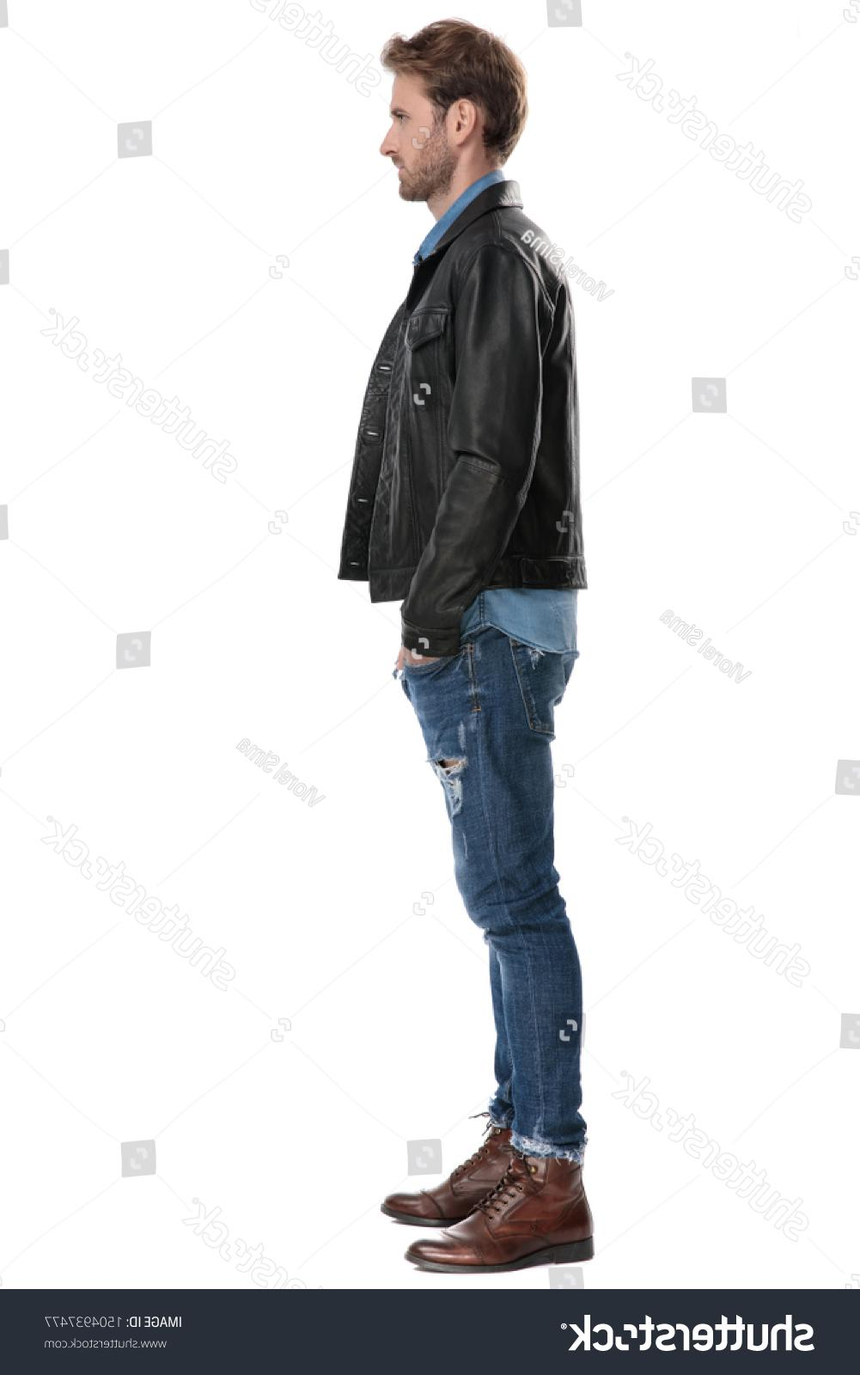jacket: (334, 177, 590, 660)
trousers: (406, 604, 592, 1154)
